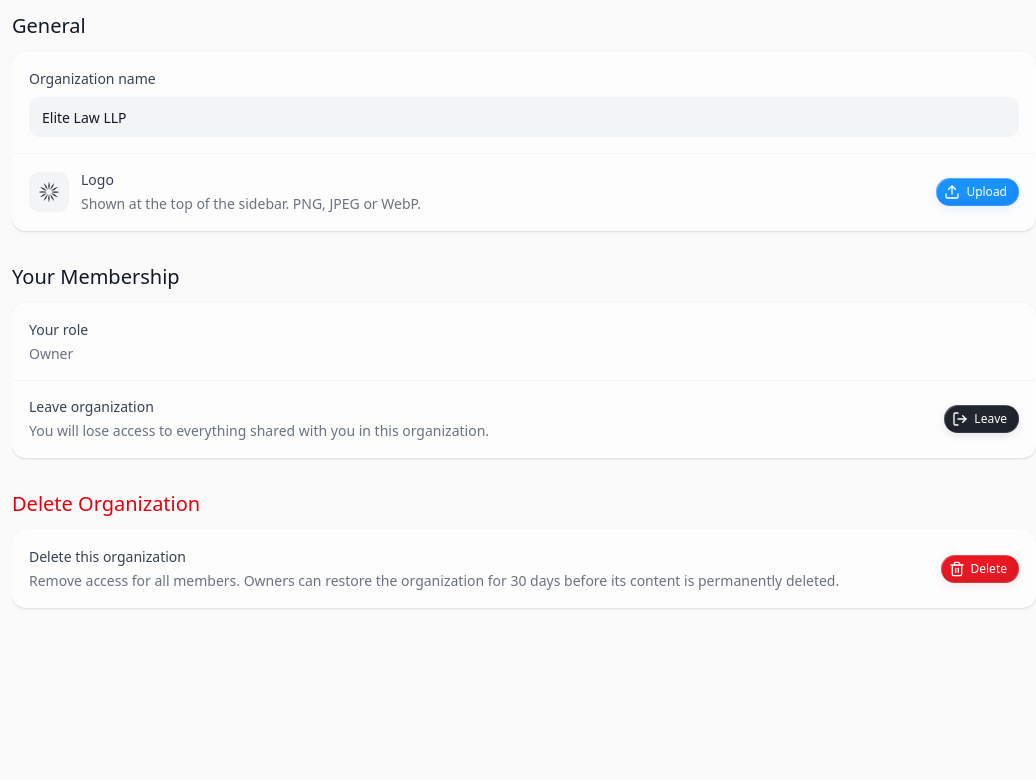
Test: renaming › shows why a rename was refused, beside the field
Step 1. Replace the text in the field labelled "Organization name" with "Taken" → (524, 117), box [29, 97, 1019, 137]
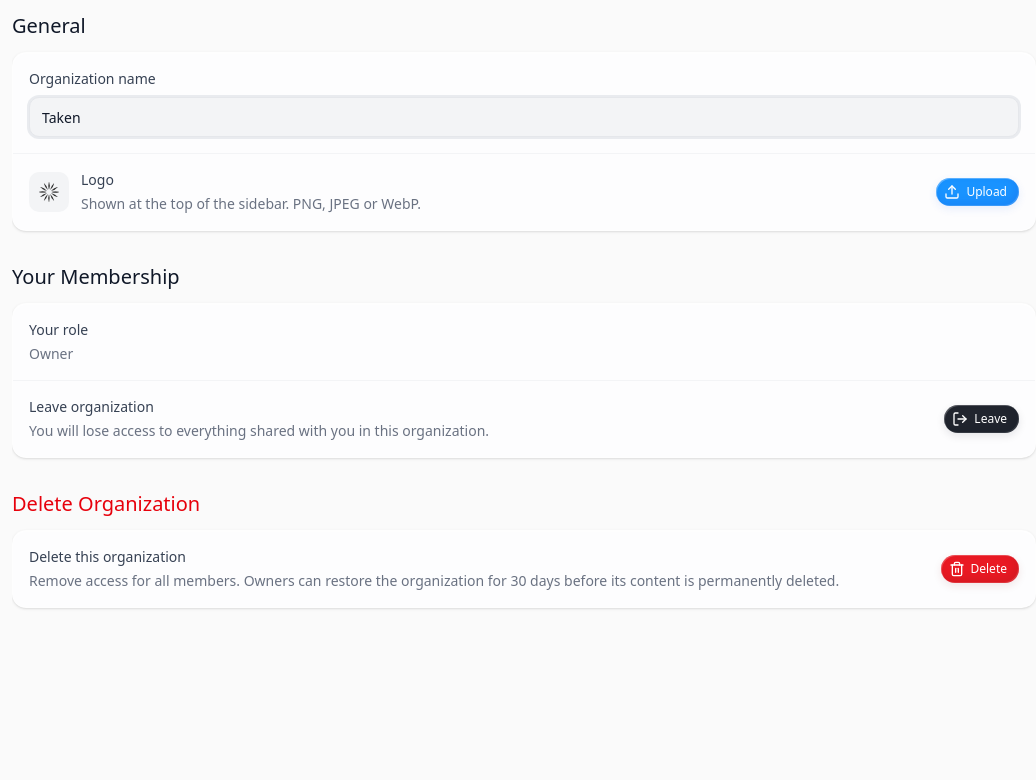
Step 2. Press Tab
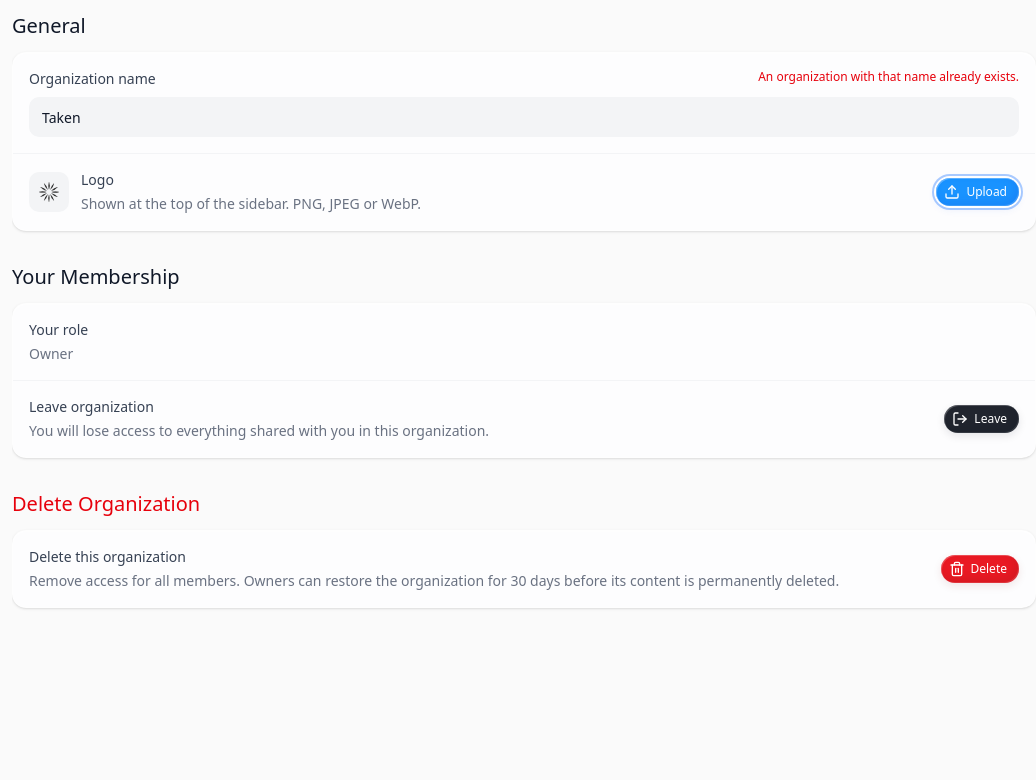
Check: the text "An organization with that name already exists." is shown, box [758, 69, 1019, 85]
